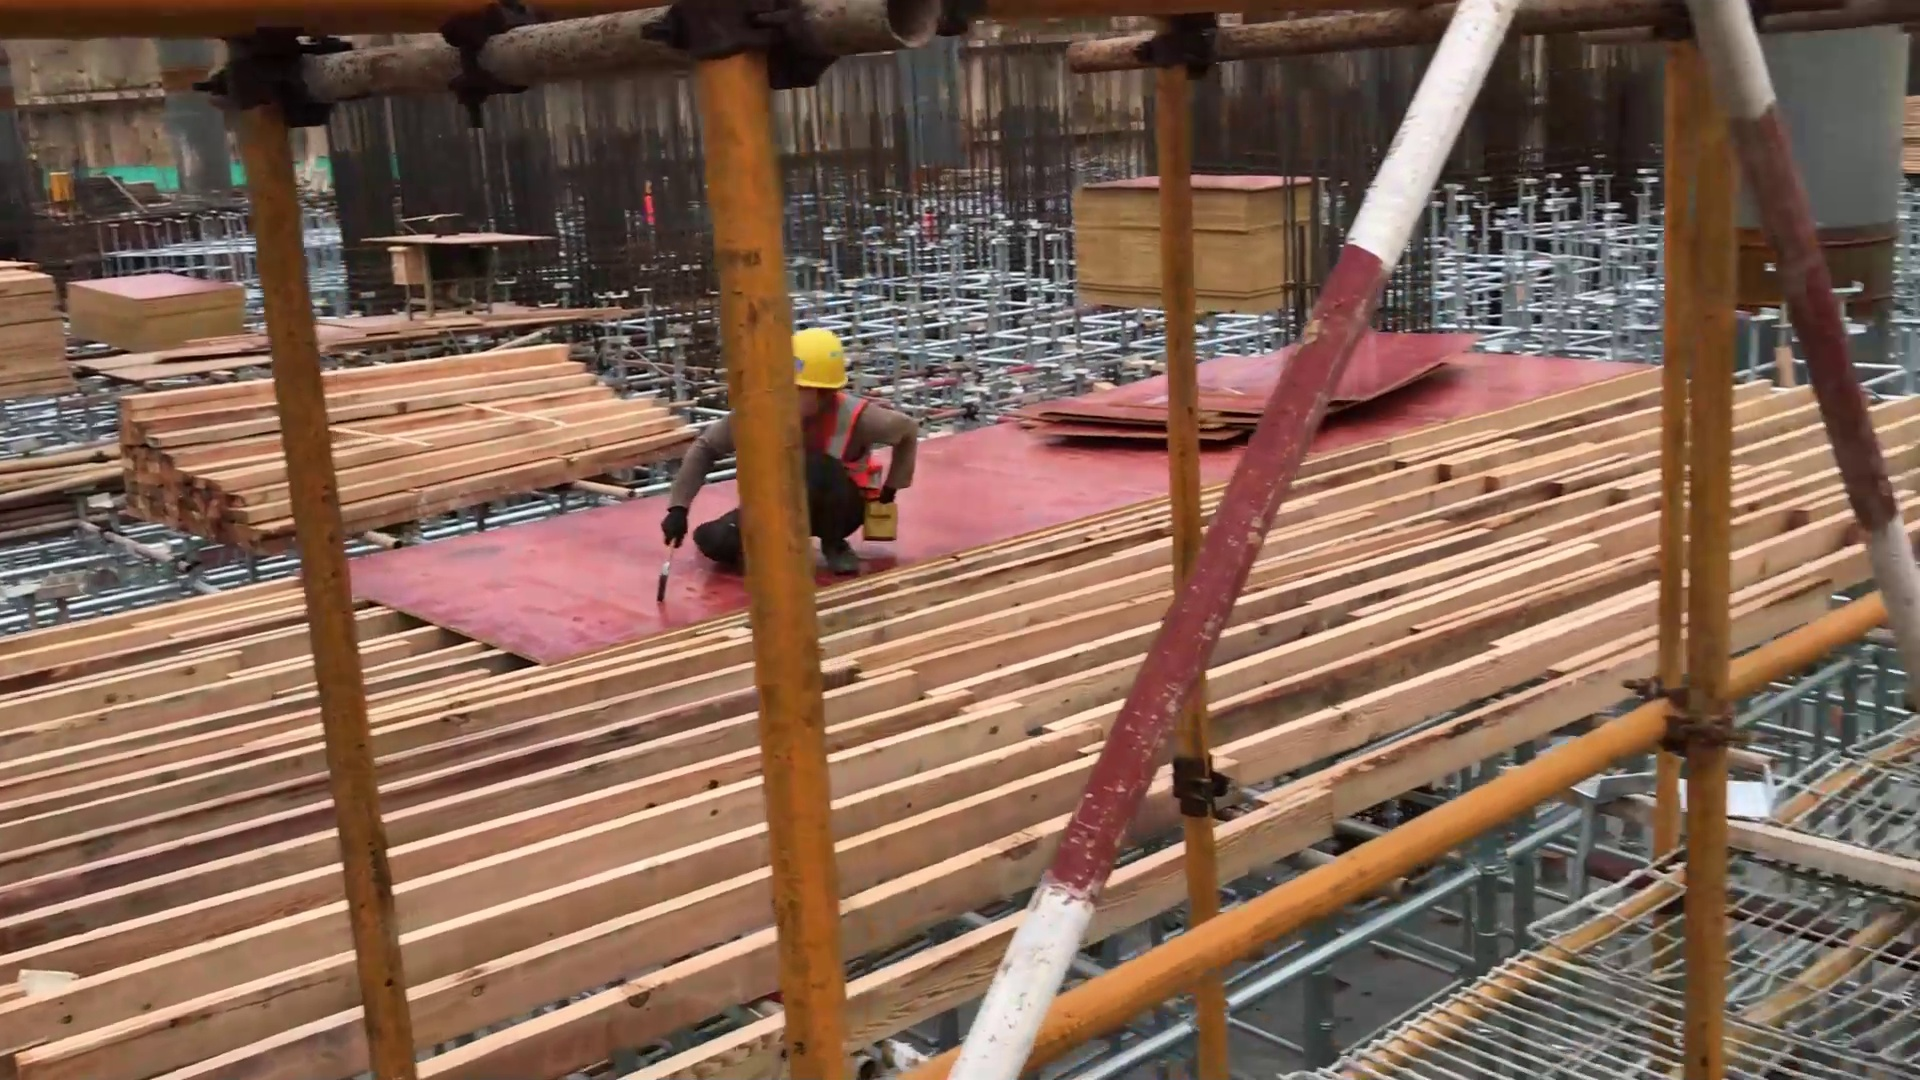board: (1028, 300, 1499, 468), (1054, 135, 1343, 327), (63, 241, 248, 363)
cutter: (355, 207, 569, 322)
helmet: (790, 325, 852, 393)
person: (638, 324, 930, 607)
vest: (801, 400, 884, 505)
wood: (7, 634, 1225, 1011), (103, 340, 697, 525)
